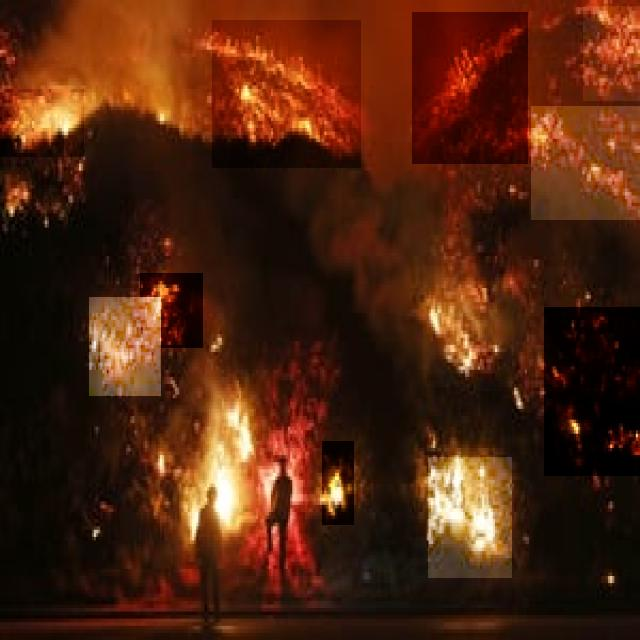Fire: (212, 20, 361, 168), (412, 12, 528, 164), (544, 307, 640, 476), (531, 107, 640, 220), (423, 266, 514, 387), (428, 457, 512, 578), (192, 412, 259, 534), (89, 297, 161, 396), (0, 89, 84, 157), (583, 6, 640, 101), (140, 273, 203, 348), (322, 441, 354, 525)
